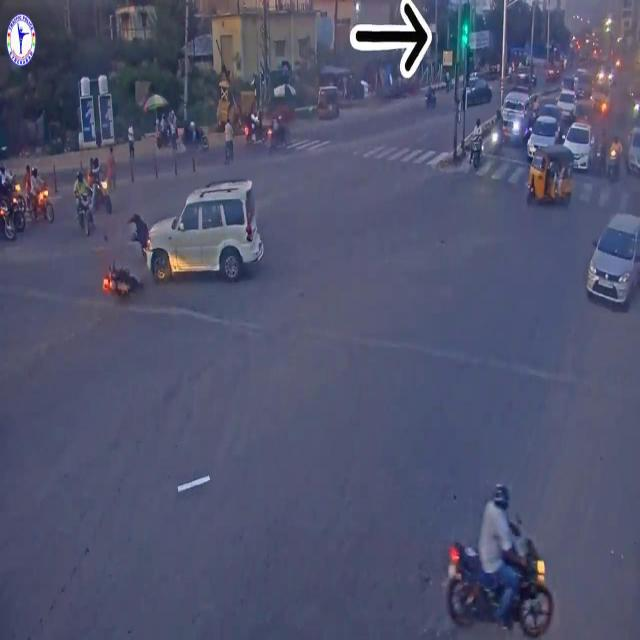accident: (99, 168, 267, 306)
non_accident: (464, 87, 629, 212), (0, 155, 57, 249), (66, 148, 115, 240)
